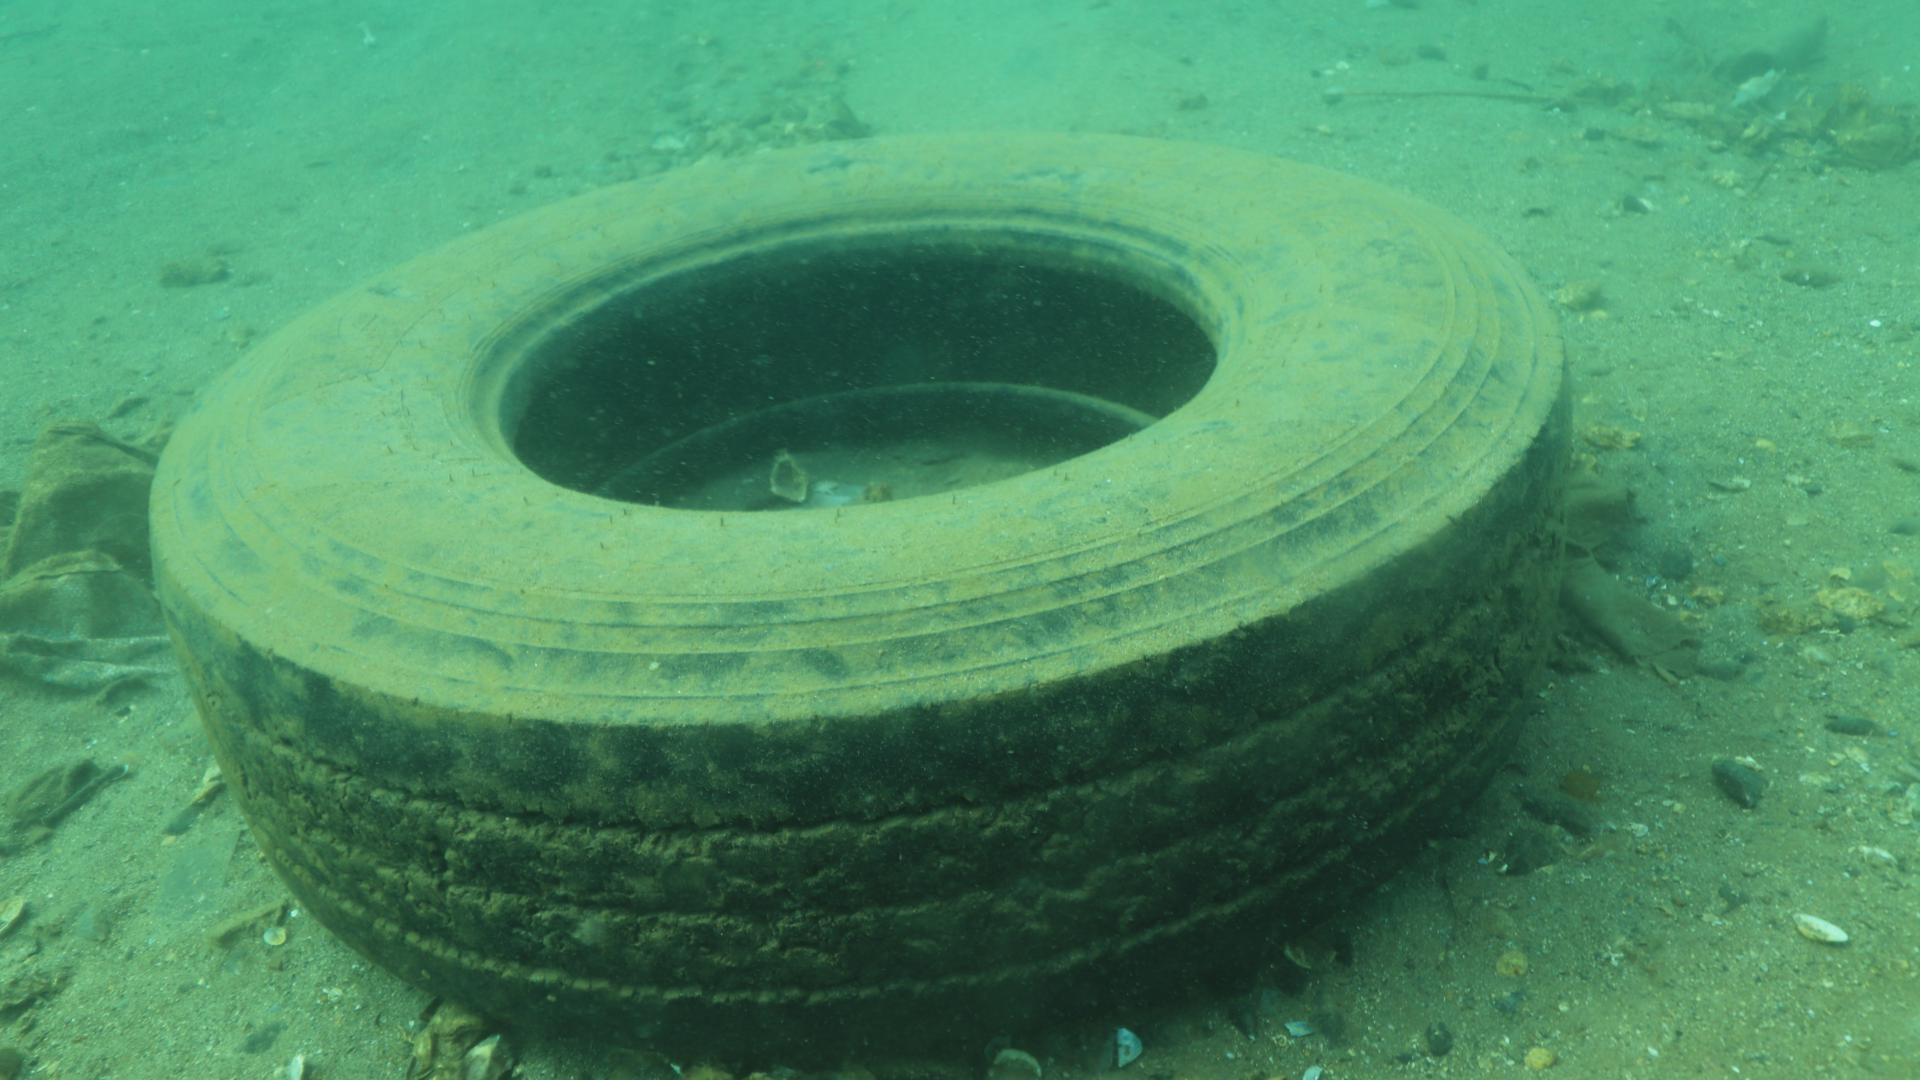tire: (146, 124, 1573, 1073)
